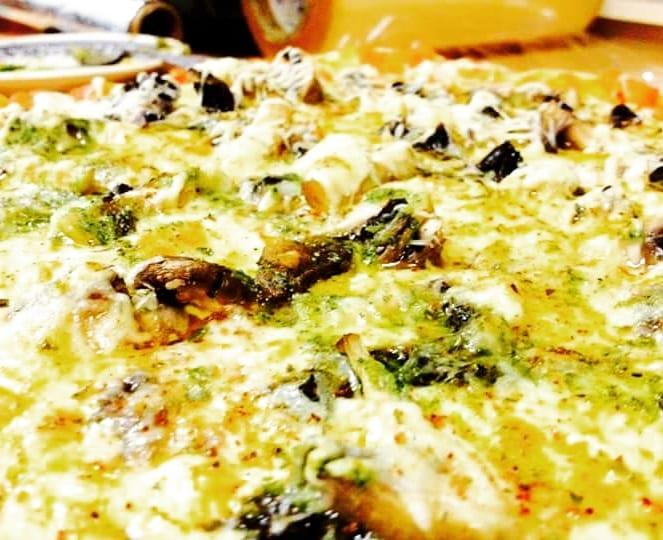Pizza: (0, 65, 663, 540)
